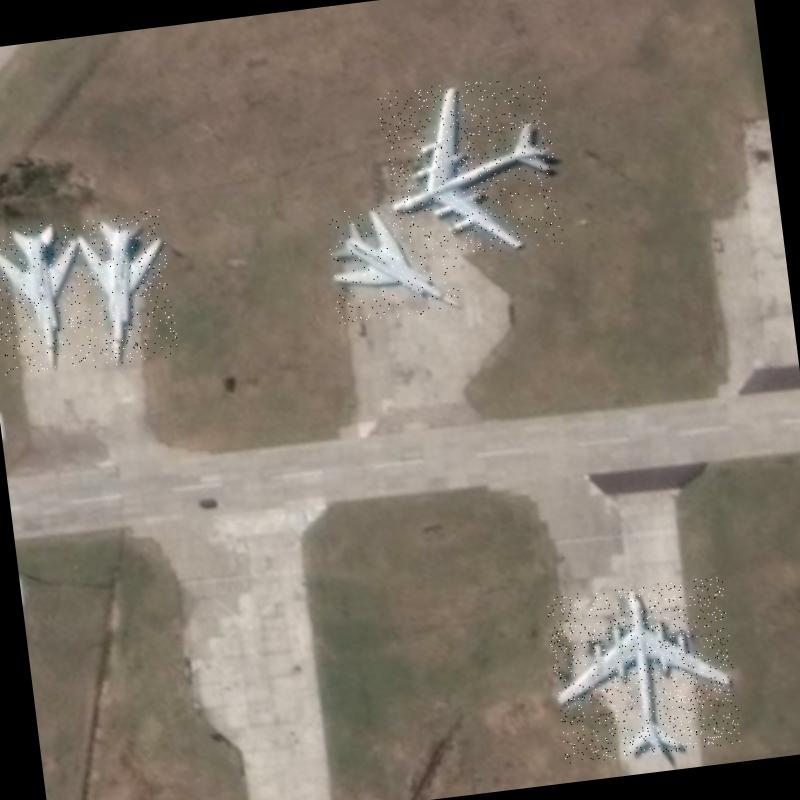A12: (324, 196, 464, 324), (73, 208, 180, 368), (0, 218, 94, 375)
A17: (544, 575, 742, 765), (376, 72, 564, 263)
